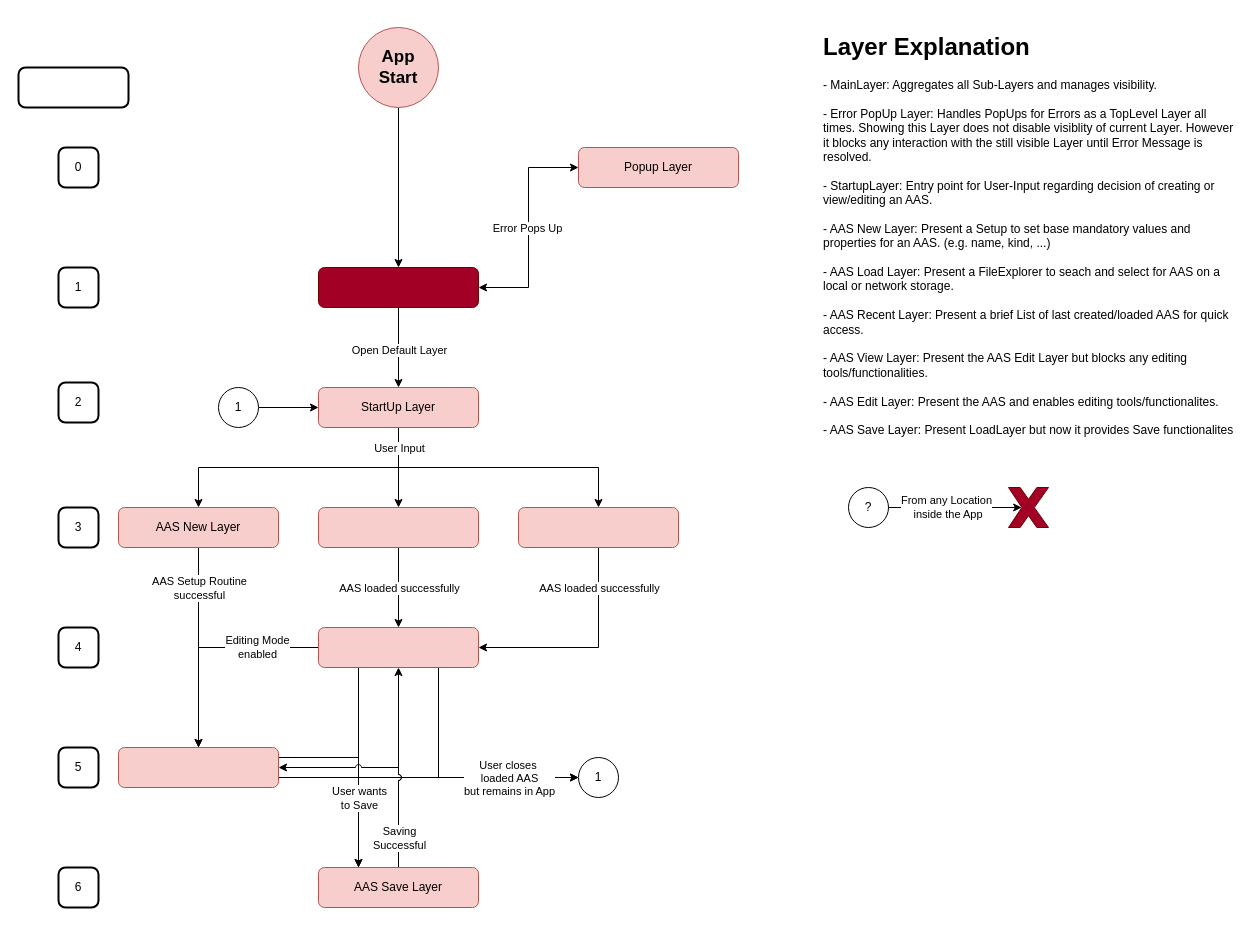
Image size: 1255x925. Some labels were removed from this diagram. The box of each missing label's shape, as (x1, y1, x2, y2) in pixels:
AAS Edit Layer: (118, 746, 278, 788)
AAS Load Layer: (318, 506, 478, 548)
AAS Recent Layer: (518, 506, 678, 548)
AAS View Layer: (318, 626, 478, 668)
Close Application: (1008, 486, 1048, 528)
Layer index/level: (17, 66, 129, 108)
Main Layer: (318, 266, 478, 308)
